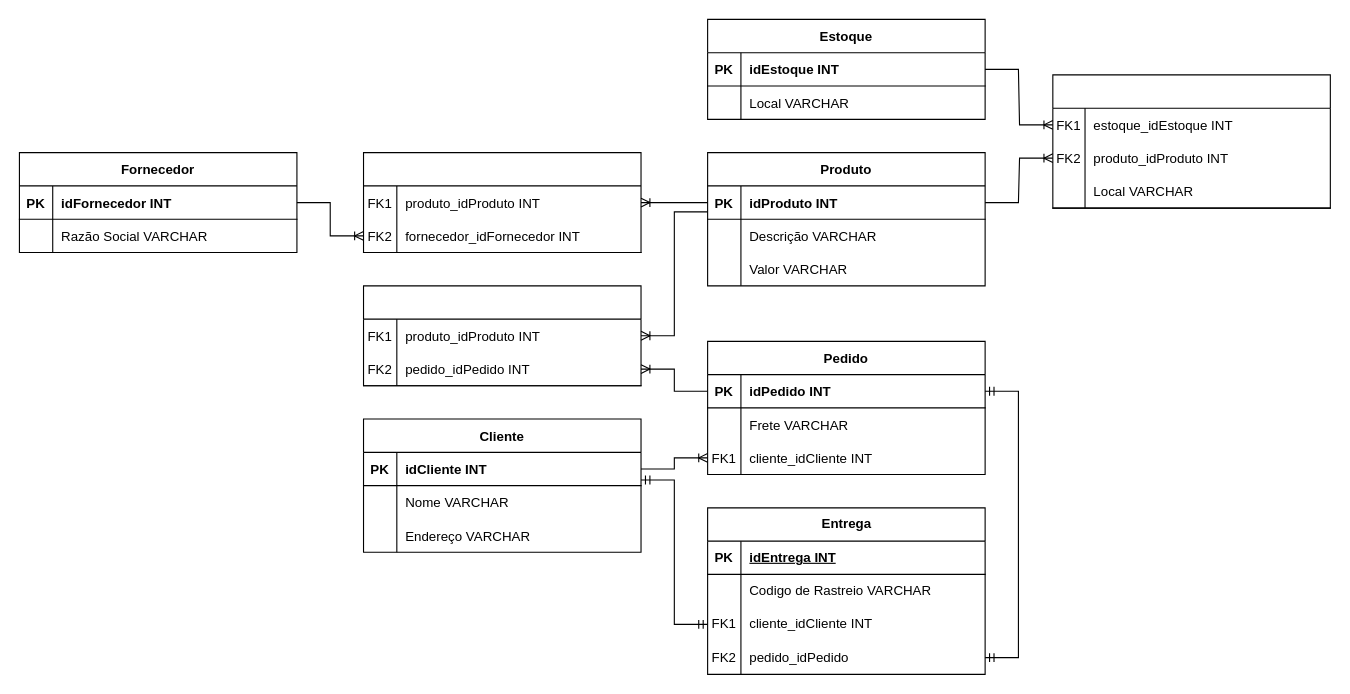
Some shapes in this 1350 by 694 pixel diagram are drawn without their labels. Each missing label, with the box of its shape:
Disponibilizando produto: (362, 152, 641, 253)
Estoque de Produdo: (1052, 74, 1330, 208)
Produto por pedido: (362, 285, 641, 386)
